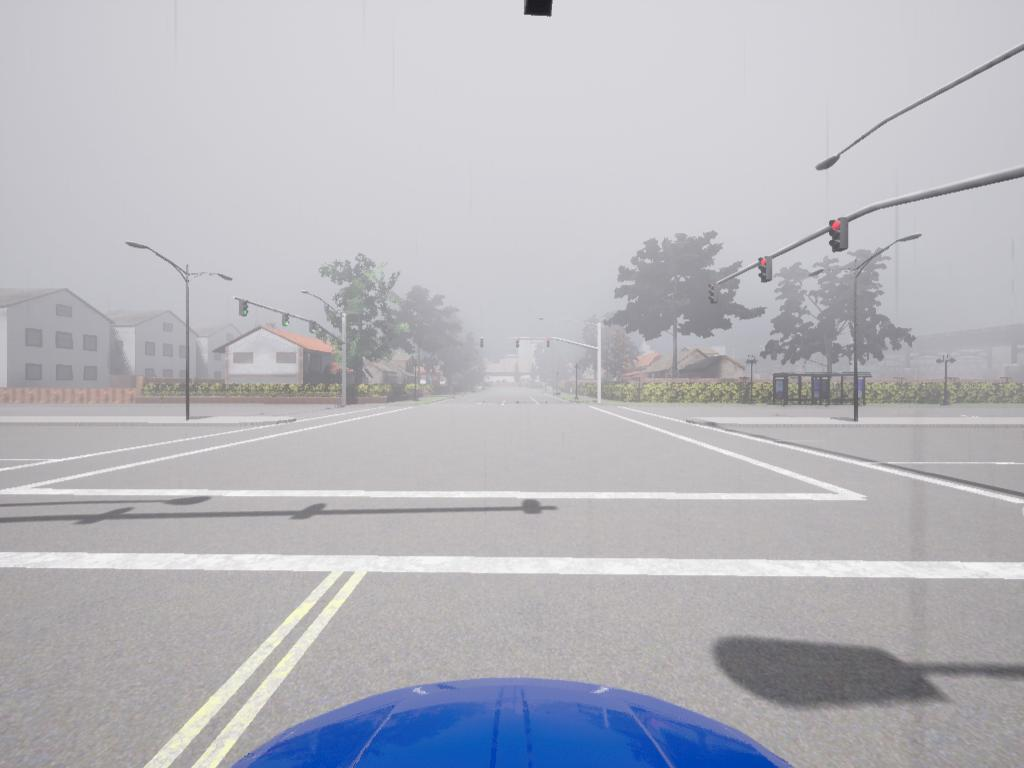traffic_light: (830, 221, 848, 254), (526, 1, 557, 17), (760, 259, 774, 284), (708, 283, 719, 306), (241, 301, 250, 319), (282, 312, 291, 329), (310, 320, 319, 336), (516, 337, 521, 350), (480, 338, 485, 349), (548, 340, 552, 350)
